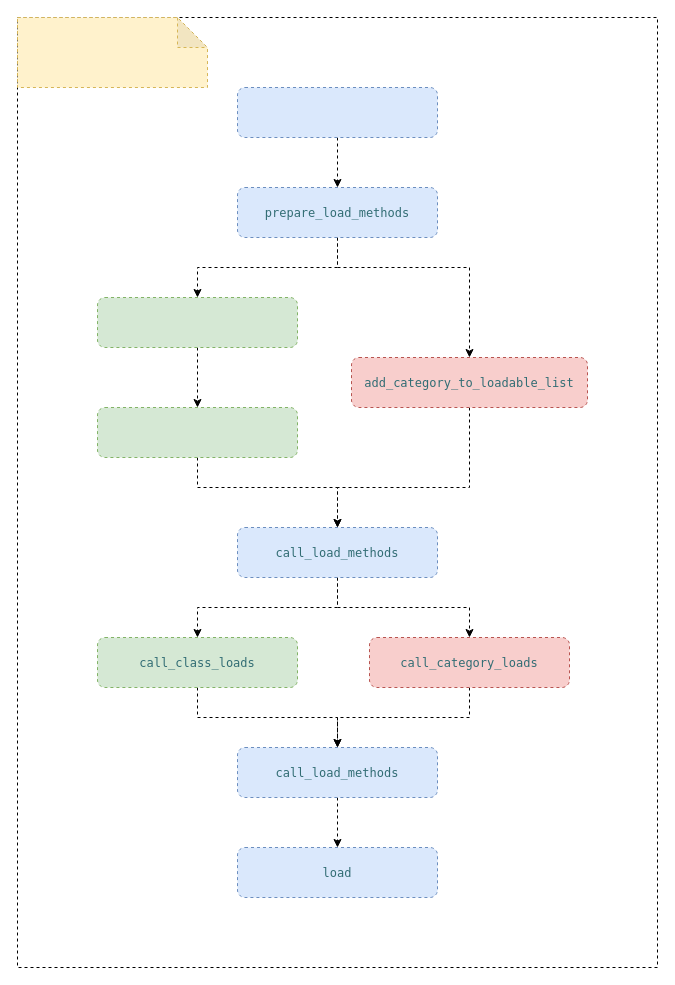
The diagram is 675 pixels wide and 985 high, and some of its shapes have lost their labels. The box of each missing label's shape, as (x1, y1, x2, y2) in pixels:
add_class_to_loadable_list: (96, 406, 298, 458)
load_images: (236, 86, 438, 138)
load方法的调用流程: (16, 16, 208, 88)
schedule_class_load: (96, 296, 298, 348)
